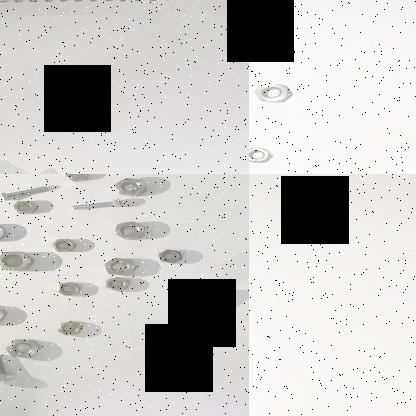Bolts: (192, 284, 233, 314), (0, 183, 51, 203), (69, 198, 127, 212), (0, 352, 16, 384)
NUTS: (254, 82, 296, 104), (3, 336, 44, 358), (112, 219, 148, 242), (102, 256, 136, 278), (0, 250, 35, 271), (114, 176, 148, 196), (249, 143, 273, 167), (102, 275, 132, 293), (152, 249, 185, 265), (8, 200, 40, 216), (52, 281, 86, 296), (51, 236, 78, 252), (56, 320, 82, 336), (62, 174, 92, 183)
